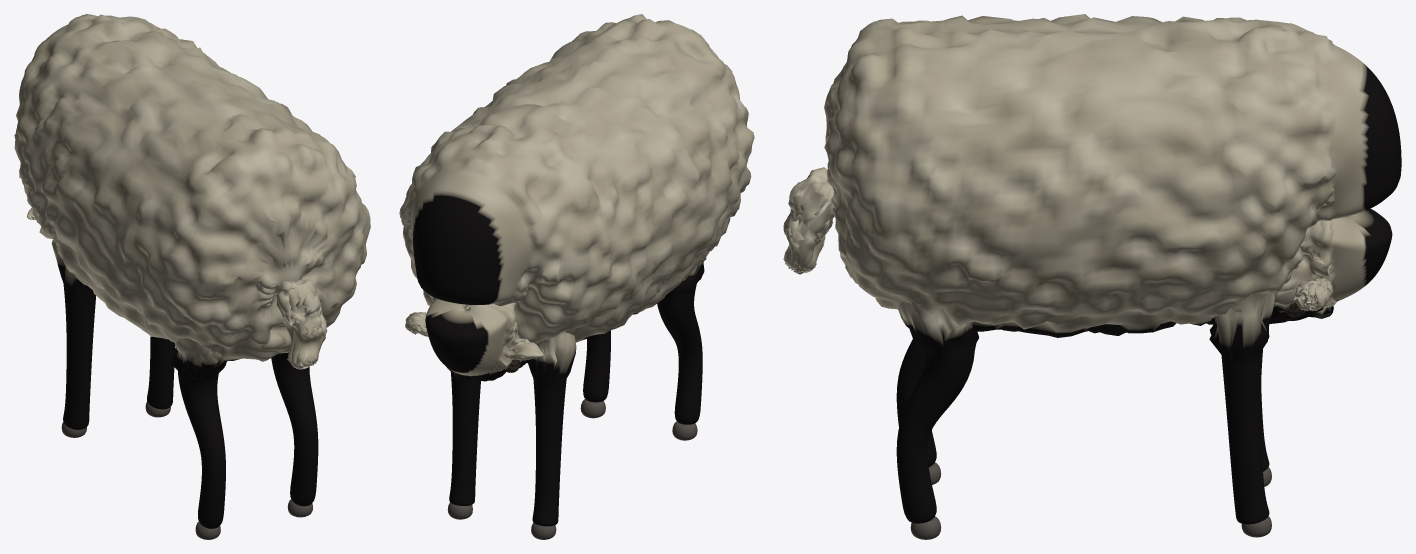
File: sheep_grazing.gltf
The picture shows the model from 3 angles, left to right: view 1: azimuth 30°, elevation 25°; view 2: azimuth 150°, elevation 25°; view 3: azimuth 270°, elevation 25°; orthographic projection. The views are drawn at different scales.
Visible parts, largest first — view 1: sheep; view 2: sheep; view 3: sheep.
Boxes of the visible parts, left/top/right/bottom form: sheep: left=14, top=14, right=370, bottom=539; sheep: left=399, top=14, right=754, bottom=539; sheep: left=783, top=14, right=1401, bottom=539.
Size of the model in its own units: 0.5328 by 0.9203 by 1.07.
